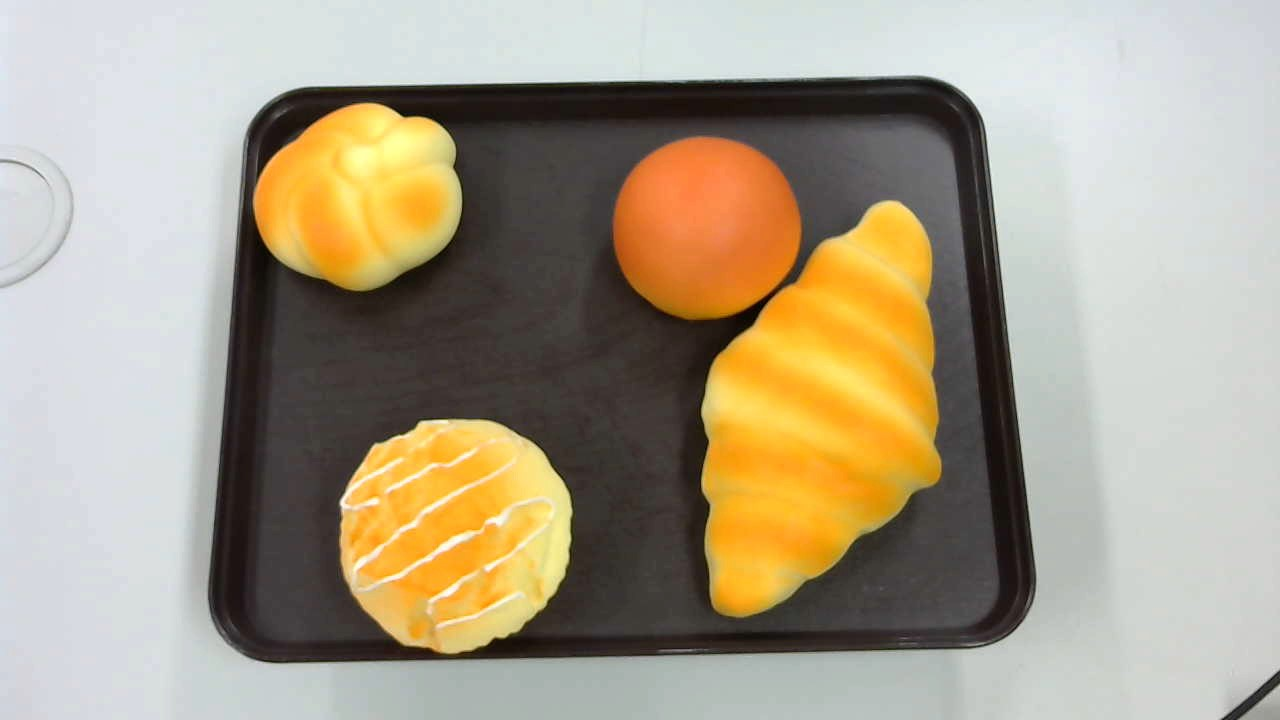bun: (611, 135, 801, 319)
croissant: (699, 200, 943, 619)
cupcake: (340, 417, 577, 654)
twist bread: (253, 101, 463, 292)
